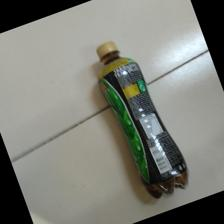Olong: (95, 37, 191, 198)
